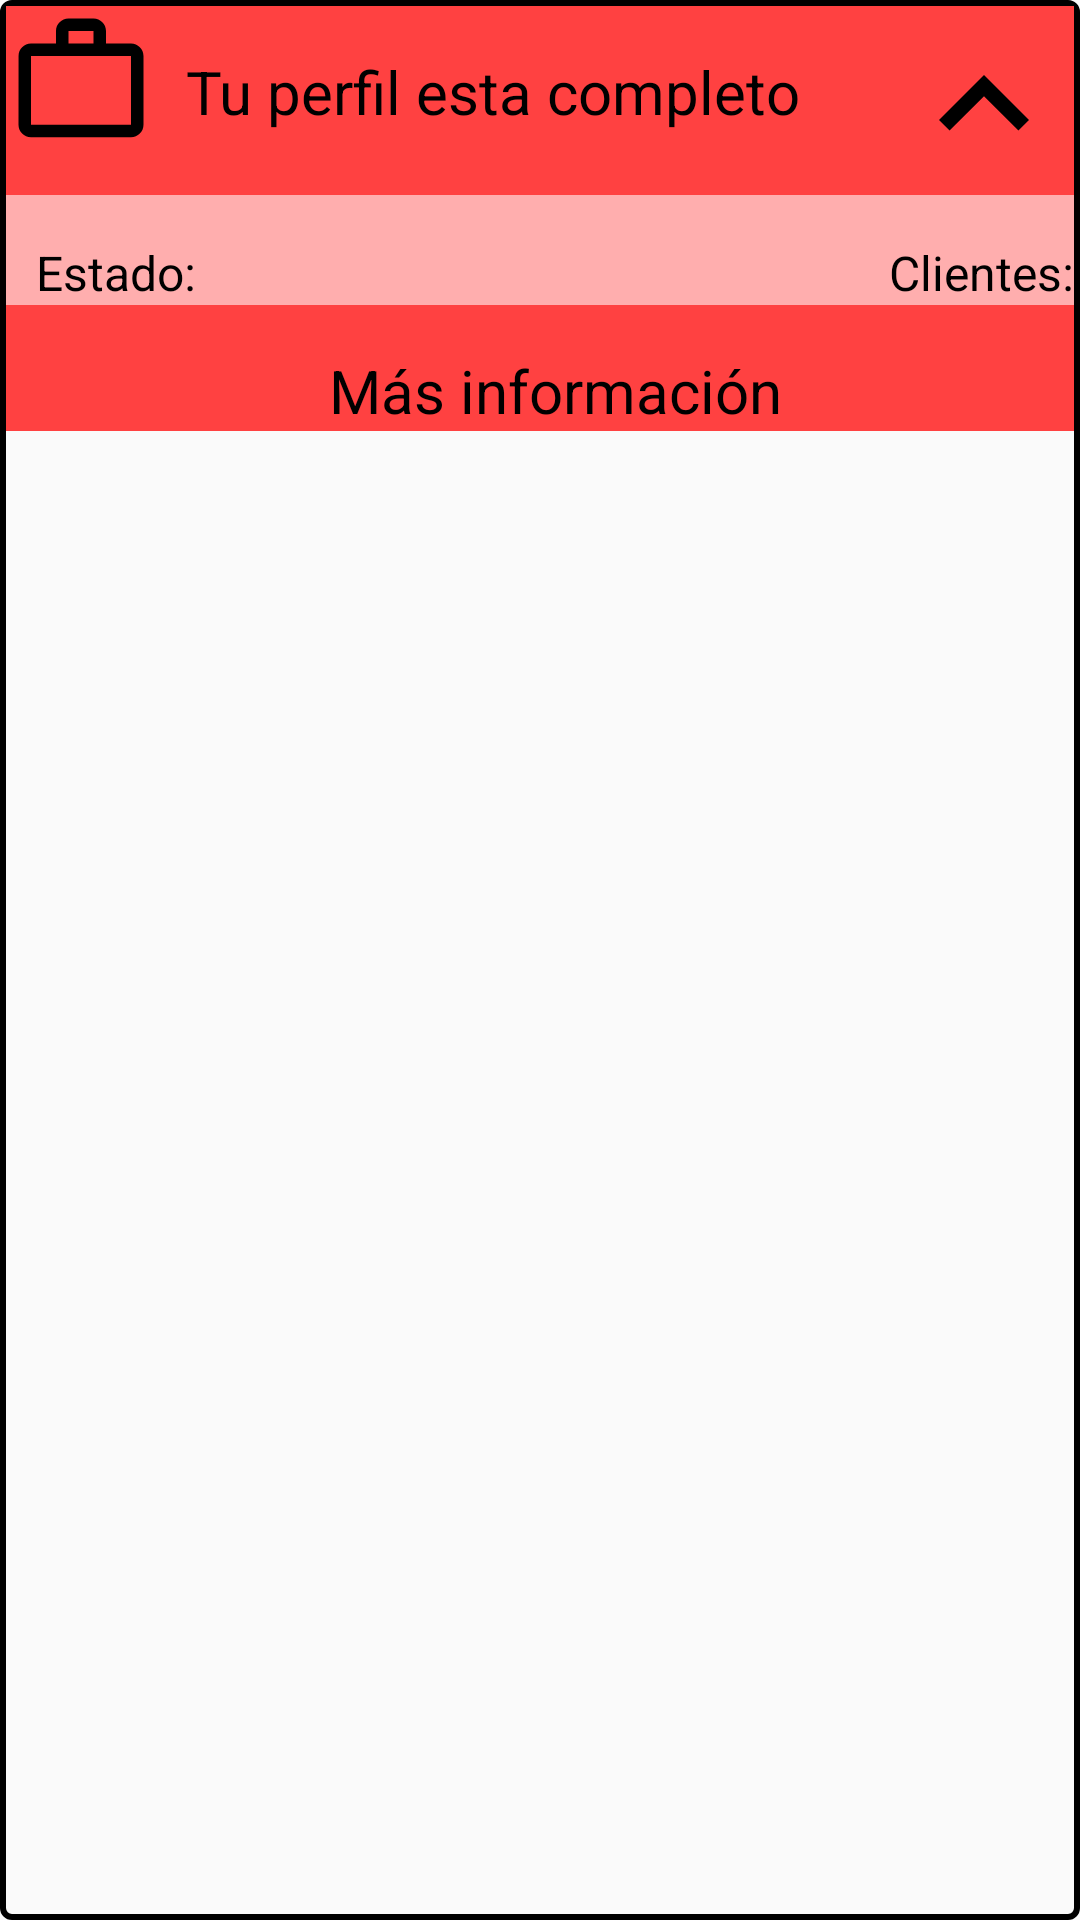

Icons on this 1080 x 1920 Android screen, each with its box as [x1=x1, y1=y1, x2=x2, y2=y2]:
arrow up: [x1=939, y1=75, x2=1029, y2=131]
work main: [x1=18, y1=18, x2=144, y2=138]
